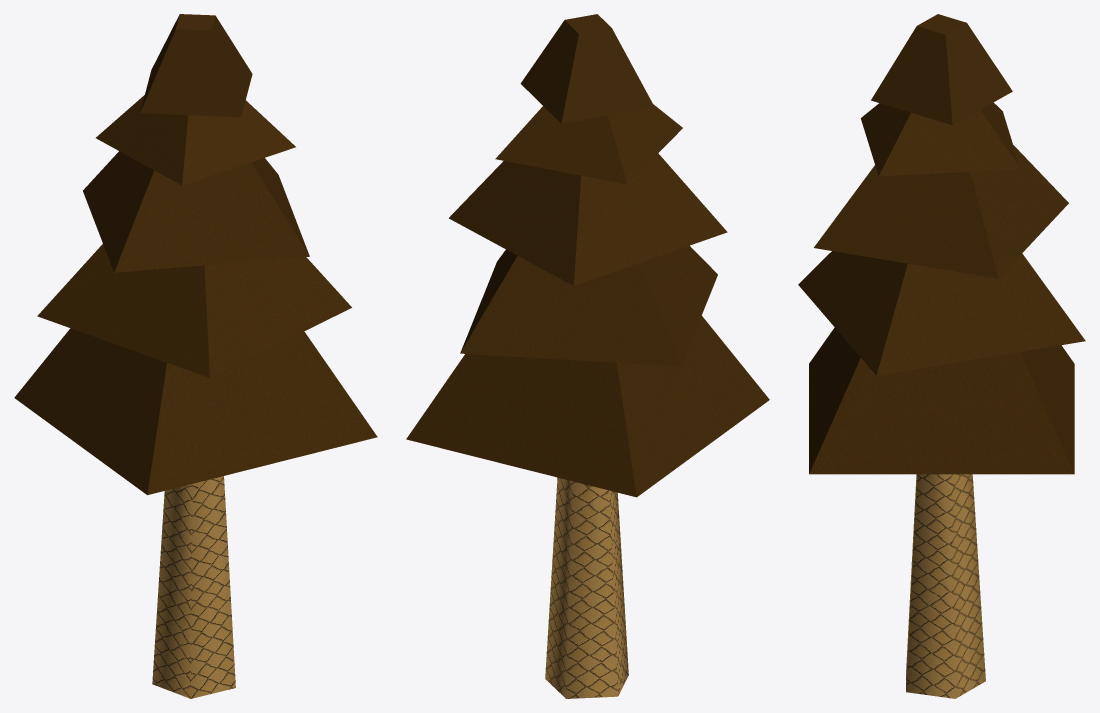
The model's file is hillTree1LP.obj.
3 renders of one model, left to right at view 1: azimuth 30°, elevation 25°; view 2: azimuth 150°, elevation 25°; view 3: azimuth 270°, elevation 25°, orthographic.
Parts seen in each view (by area): view 1: Cone, Cylinder_Cylinder.001; view 2: Cone, Cylinder_Cylinder.001; view 3: Cone, Cylinder_Cylinder.001.
Boxes of the visible parts, x1,y1,x2,y2 form: Cone: (14,14,377,495); Cylinder_Cylinder.001: (152,476,235,698); Cone: (406,14,769,497); Cylinder_Cylinder.001: (545,477,628,698); Cone: (798,14,1085,474); Cylinder_Cylinder.001: (906,474,985,698).
Size of the model in its own units: 1.2 by 3.03 by 1.2.
2 materials, 2 textured.
